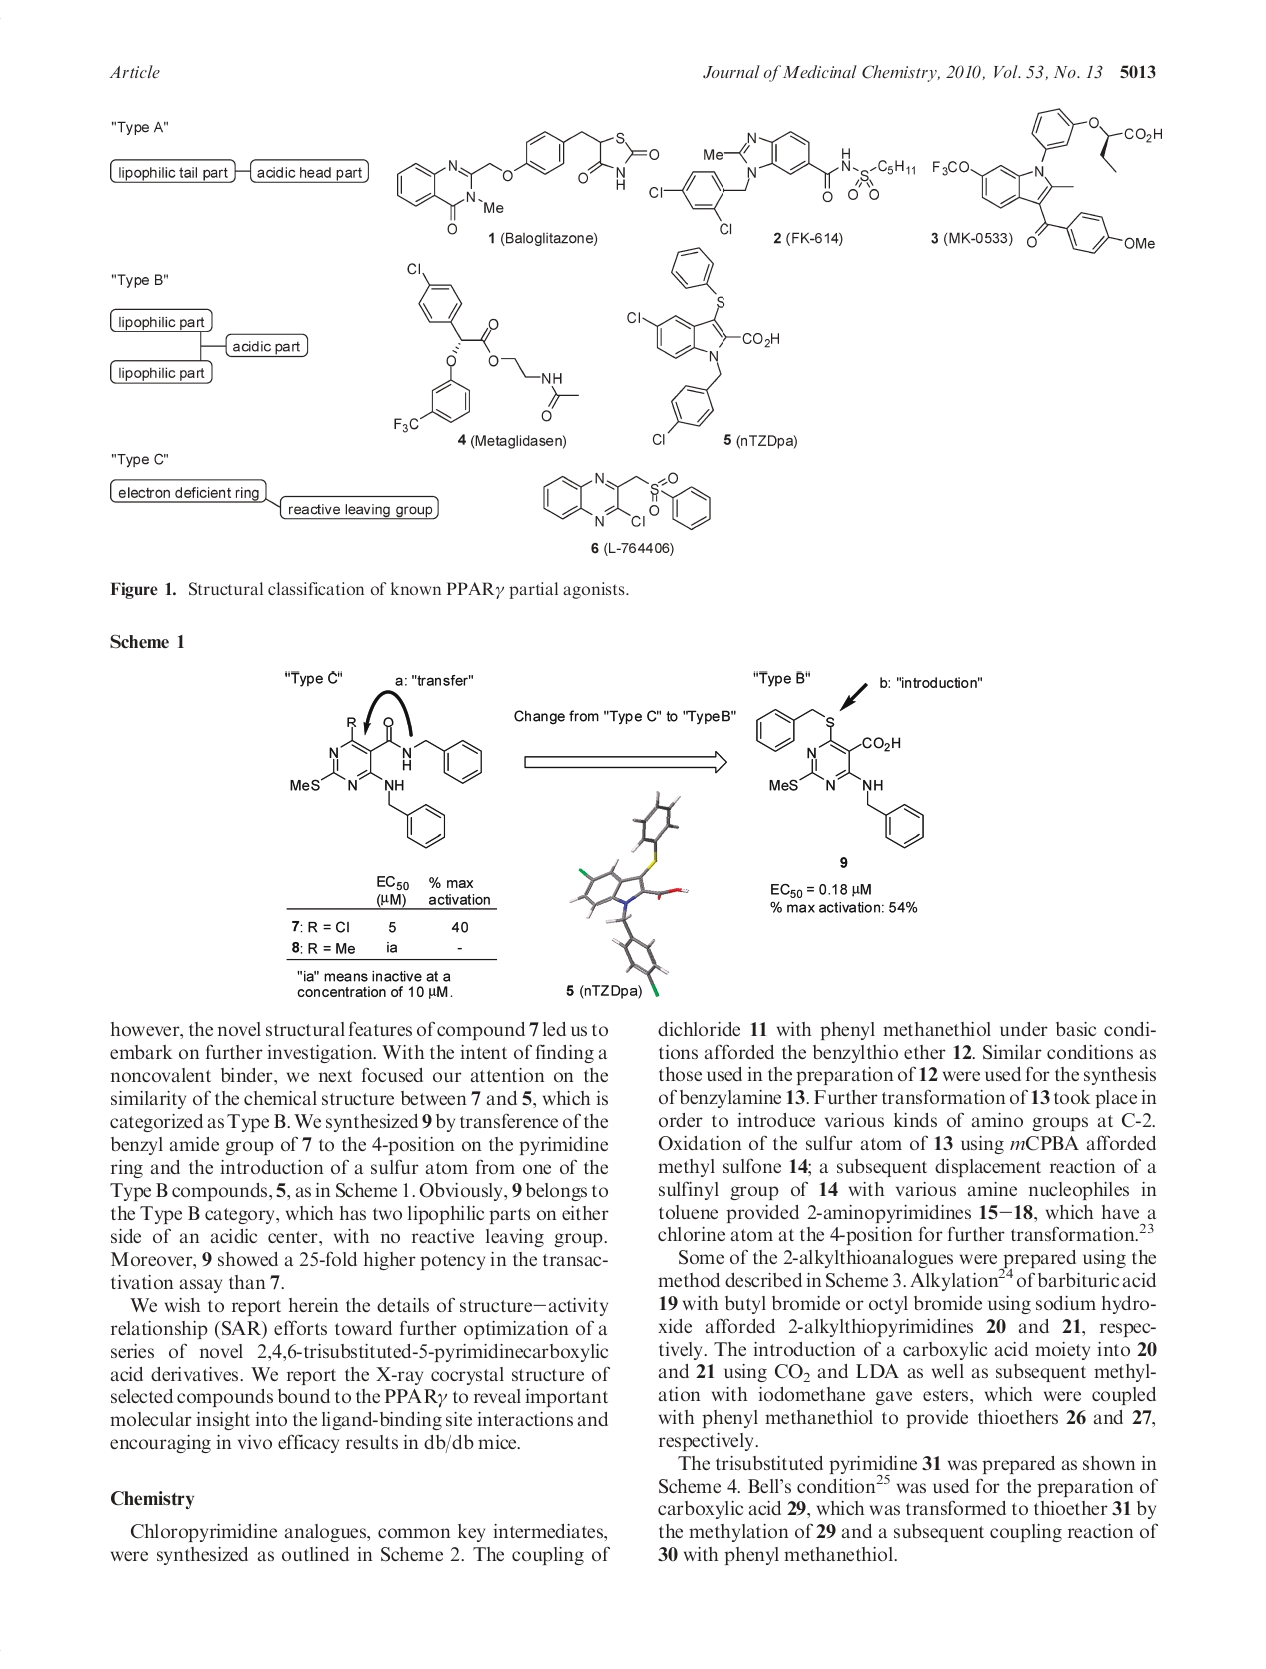exist_molecular: (390, 259, 586, 435), (934, 104, 1165, 251), (622, 245, 781, 446), (396, 128, 661, 235), (648, 132, 918, 235), (287, 715, 484, 848), (751, 705, 926, 851), (540, 465, 717, 531)
